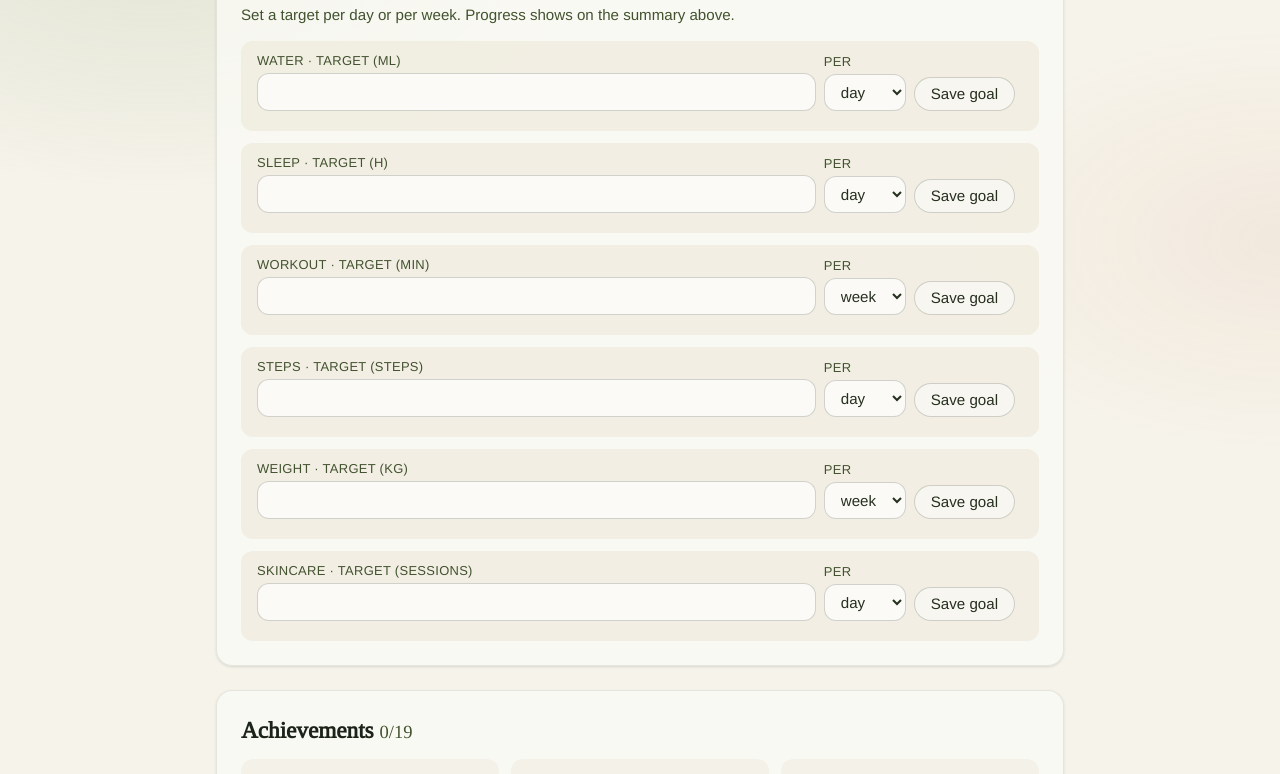
Scenario: <ProfilePage> — goals and progress › rejects a non-positive target without writing, and reports a refused upsert
This screenshot has width=1280, height=774.
(page scrolled)
Step 1. Click the 4th button "Save goal" → x=964, y=400, box [914,383,1015,417]
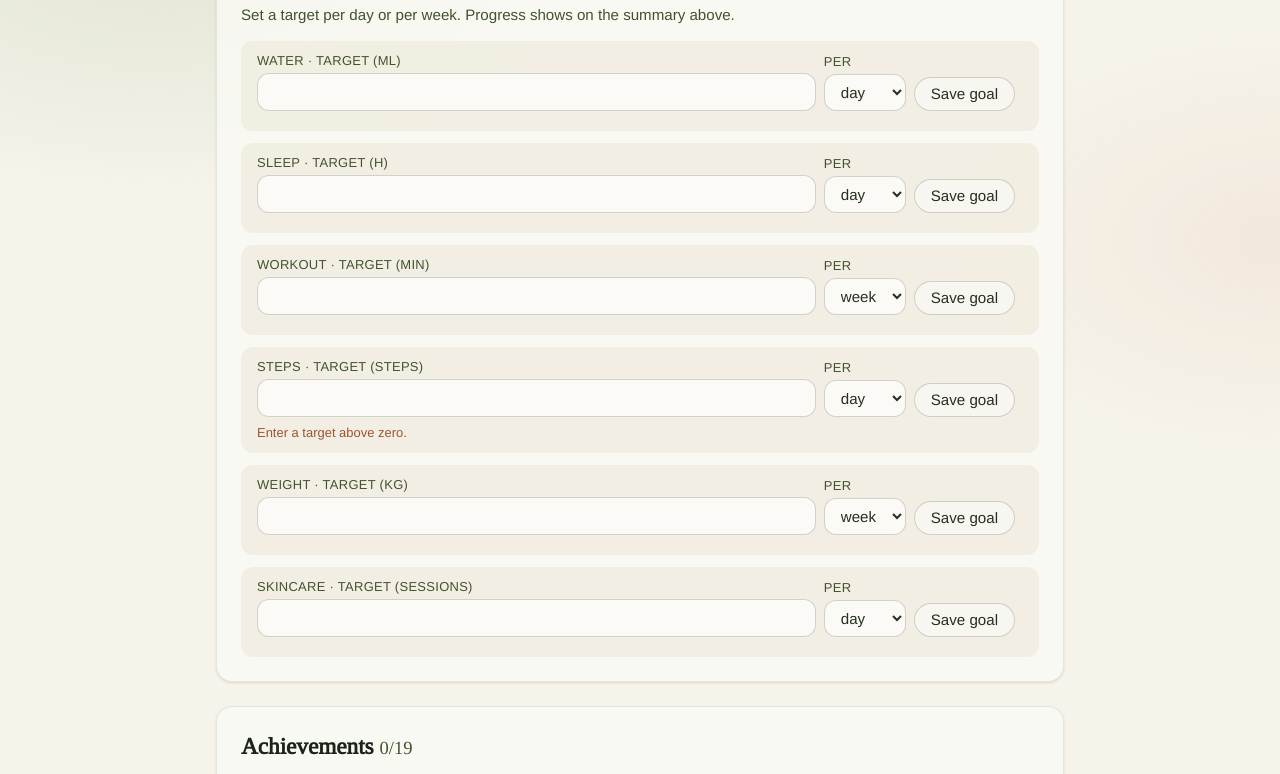
Check: the message reads "Enter a target above zero.", box [257,425,407,440]
Step 2. Type "8000" into the field labelled "Steps · Target (steps)" → x=536, y=398, box [257,379,816,417]
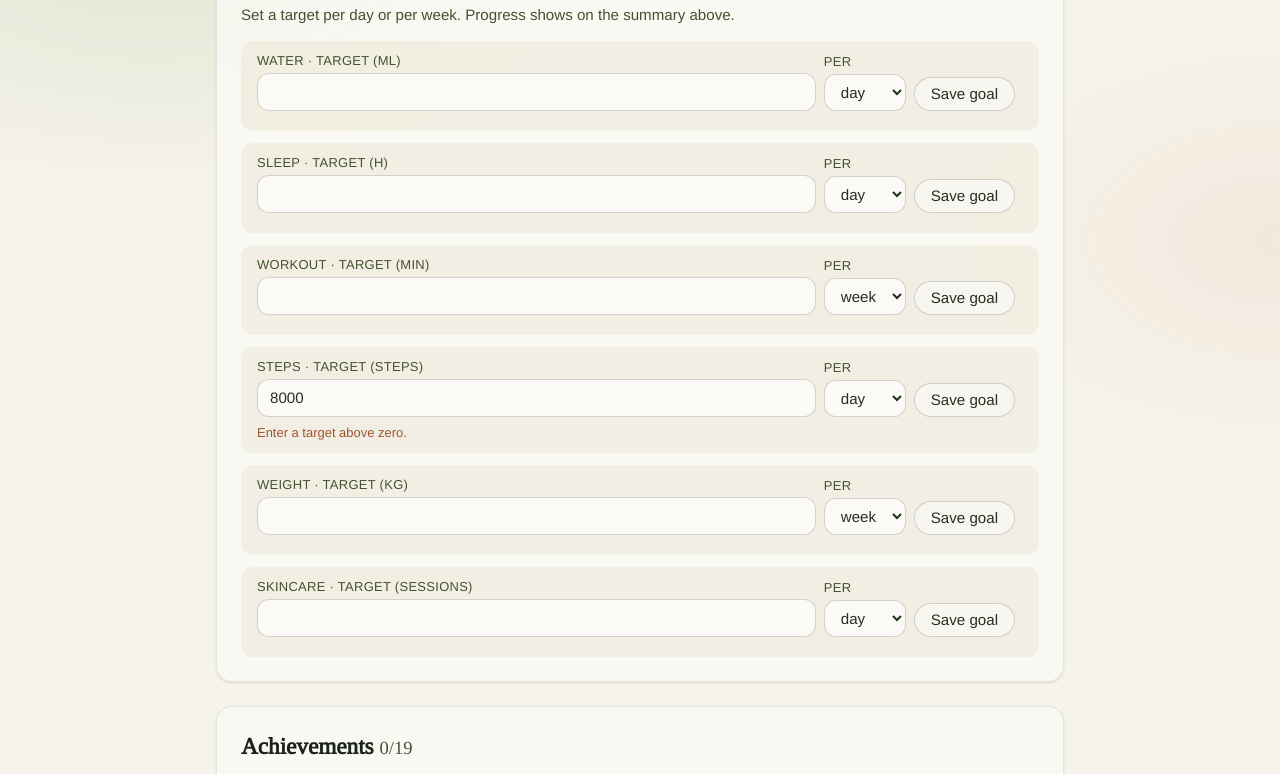
Step 3. Click the 4th button "Save goal" → x=964, y=400, box [914,383,1015,417]
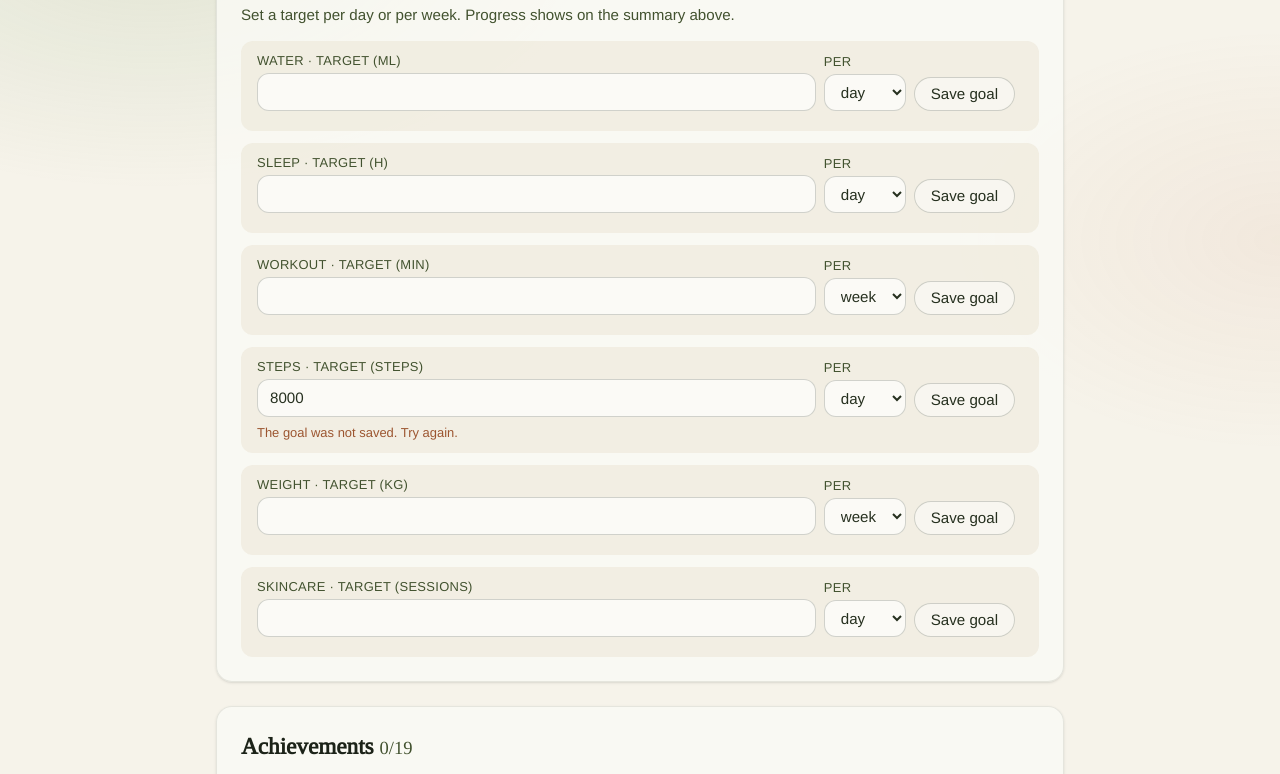
Check: the message reads "The goal was not saved. Try again.", box [257,425,458,440]
